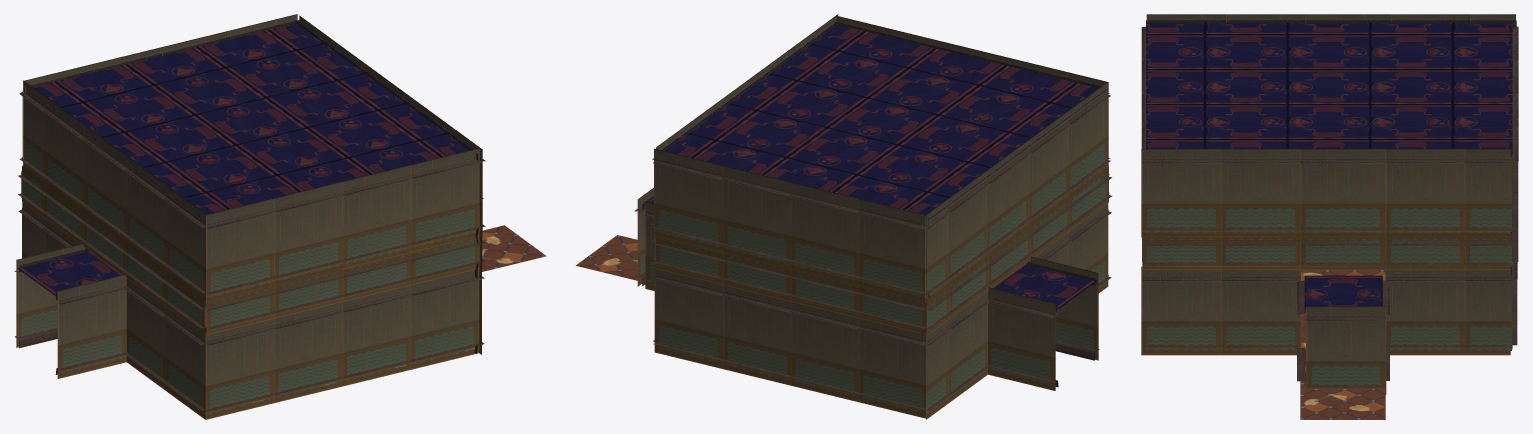
The model's file is Layout_Floor05.glb.
3 renders of one model, left to right at view 1: azimuth 30°, elevation 25°; view 2: azimuth 150°, elevation 25°; view 3: azimuth 270°, elevation 25°, orthographic.
Parts seen in each view (by area): view 1: Layout_Floor05; view 2: Layout_Floor05; view 3: Layout_Floor05.
Part boxes in pixels (x1,y1,x2,y2): Layout_Floor05: (14,14,546,419); Layout_Floor05: (576,14,1111,419); Layout_Floor05: (1141,14,1518,419).
Size of the model in its own units: 30.95 by 12.48 by 20.62.
3 materials, 3 textured.
